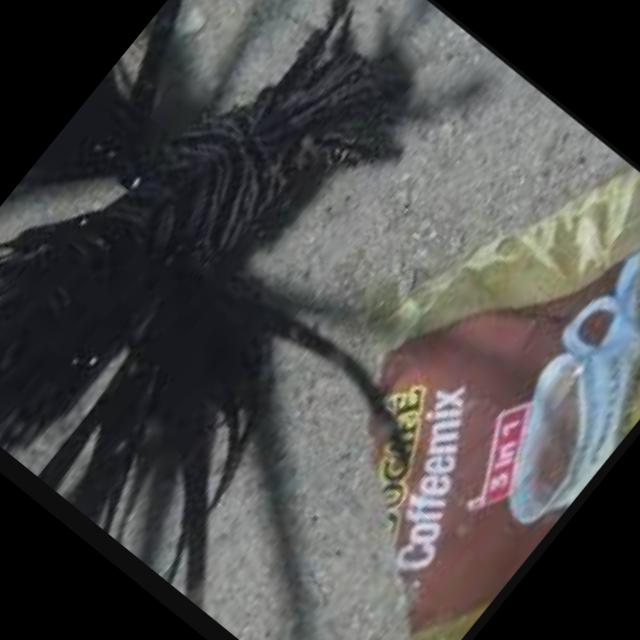KemasanPlastik: (207, 118, 640, 640)
